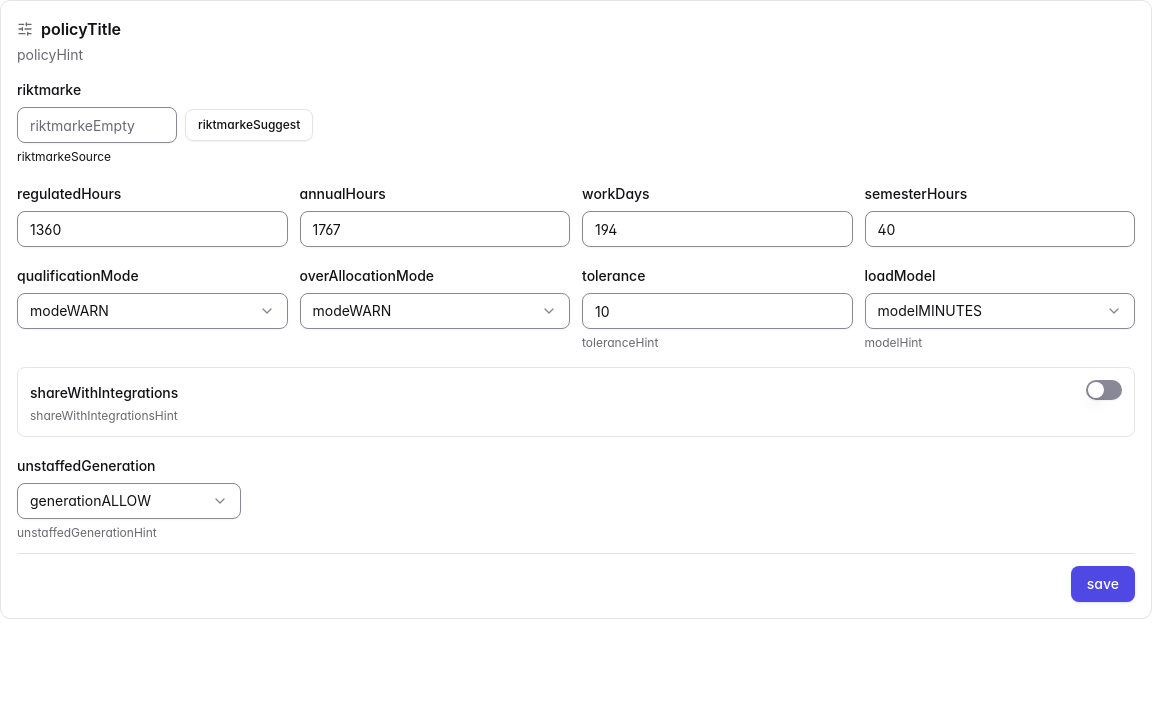
Test case: StaffingPolicyCard › fills 1 080 on the suggestion button, never by default
Expected: the number field labelled "riktmarke" is empty, [17,107,177,143]
Click the button "riktmarkeSuggest": (249, 125) [185,109,313,141]
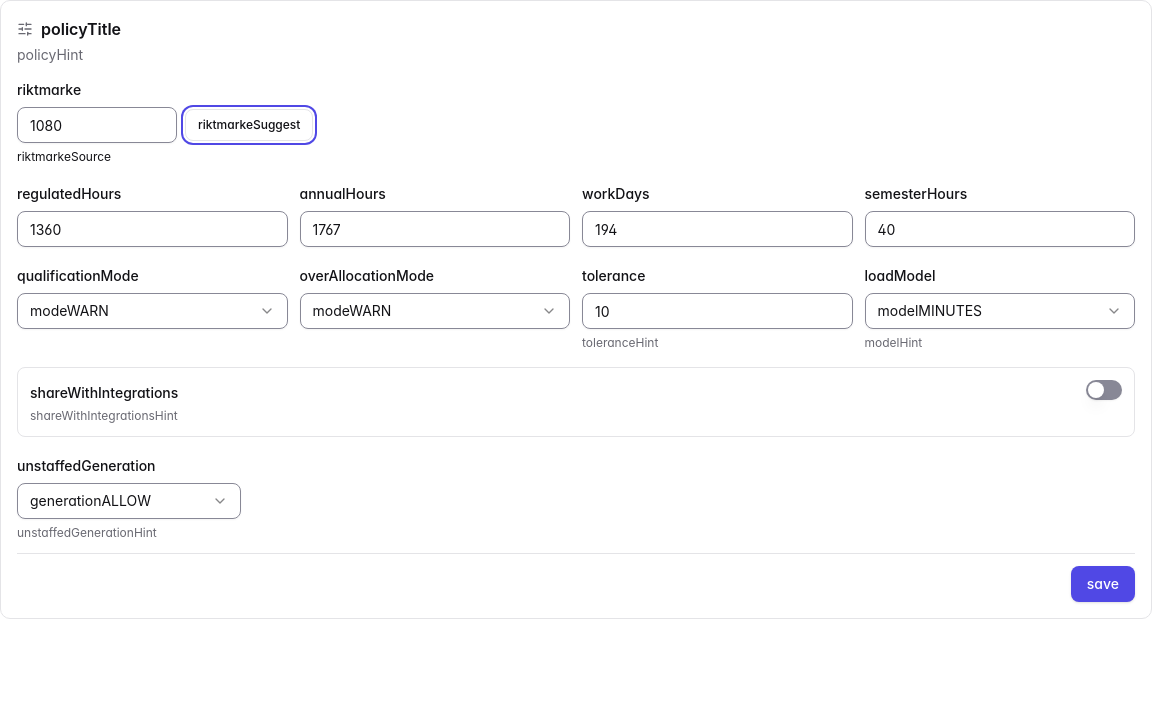
Now the number field labelled "riktmarke" holds "1080", box [17,107,177,143]
